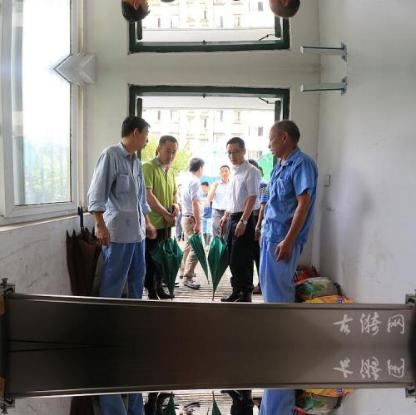No Safety Helmet: (264, 118, 306, 161), (119, 113, 153, 163), (154, 131, 181, 170), (224, 133, 248, 168), (213, 162, 240, 187), (185, 154, 208, 180)
